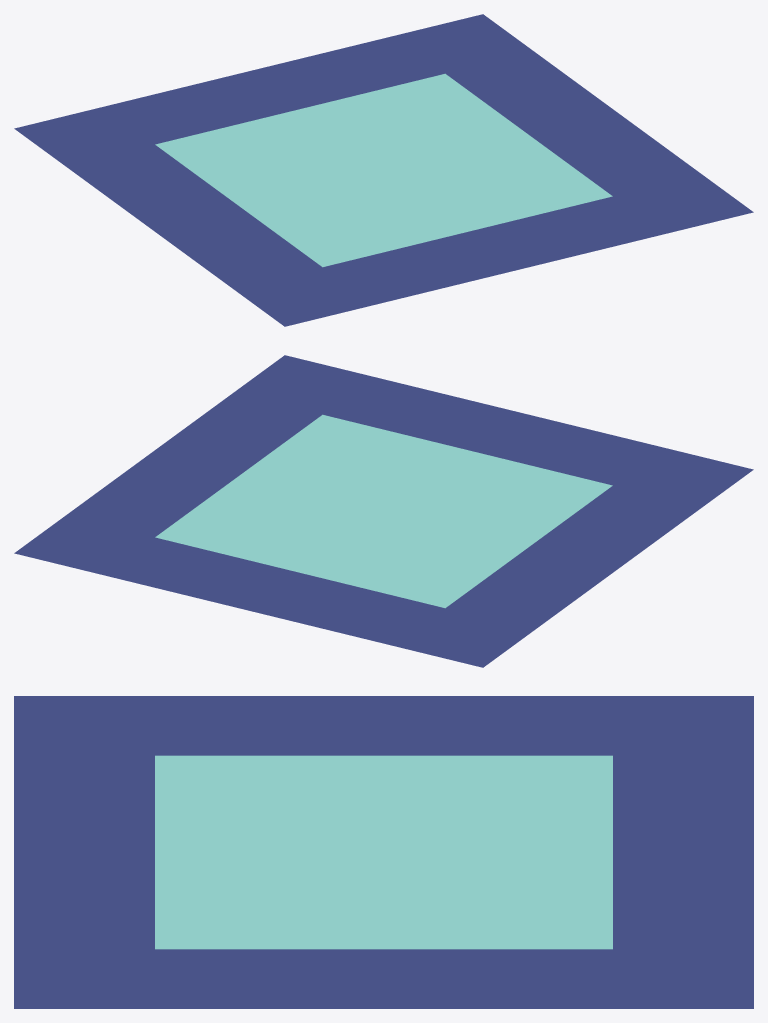
Rendered from TestPlane2.fbx.
The picture shows the model from 3 angles, top to bottom: view 1: azimuth 30°, elevation 25°; view 2: azimuth 150°, elevation 25°; view 3: azimuth 270°, elevation 25°; orthographic projection. The views are drawn at different scales.
Parts seen in each view (by area): view 1: Plane; view 2: Plane; view 3: Plane.
Boxes of the visible parts, x1,y1,x2,y2 form: Plane: (14, 14, 753, 326); Plane: (14, 355, 753, 667); Plane: (14, 696, 753, 1008).
Size of the model in its own units: 2229 by 0.000363 by 2229.
